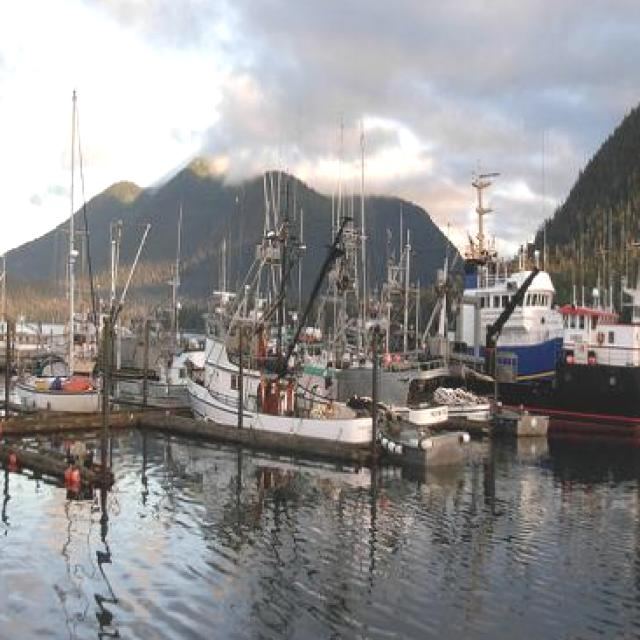ship: (184, 156, 384, 458)
